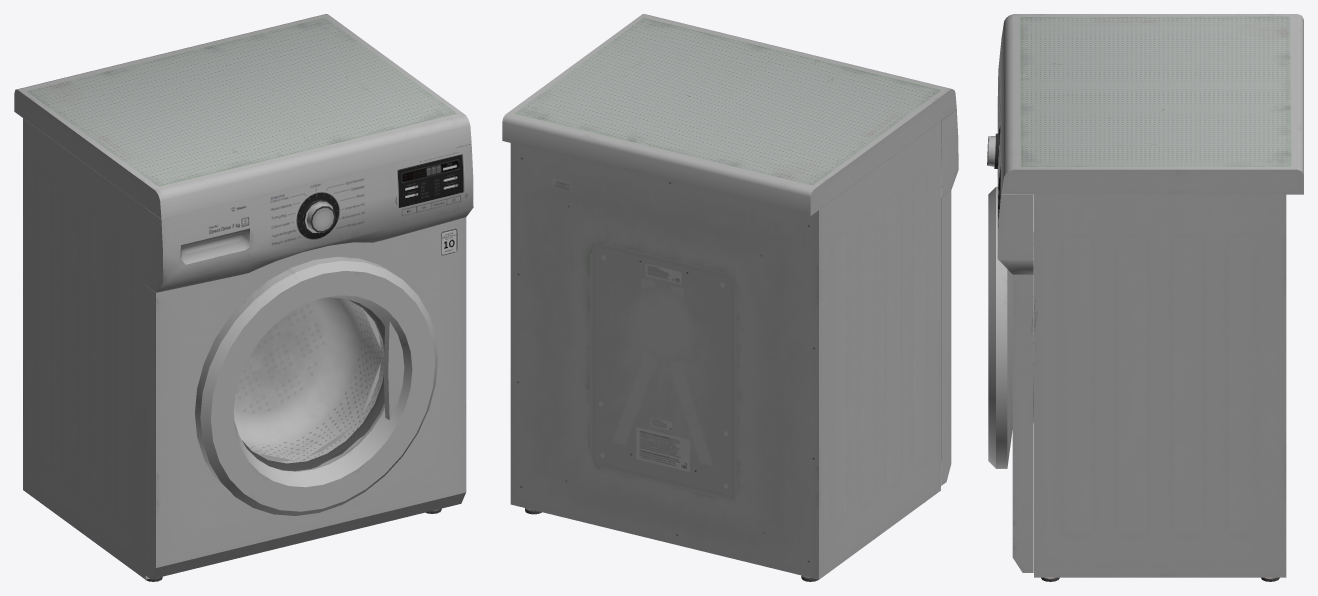
The model's file is game-ready_washing_machine.glb.
3 renders of one model, left to right at view 1: azimuth 30°, elevation 25°; view 2: azimuth 150°, elevation 25°; view 3: azimuth 270°, elevation 25°, orthographic. The views are drawn at different scales.
Visible parts, largest first — view 1: Cylinder.007, Cylinder.003; view 2: Cylinder.007; view 3: Cylinder.007.
Boxes of the visible parts, box(x1,y1,x2,y2) form: Cylinder.007: box(14, 14, 473, 581); Cylinder.003: box(234, 298, 384, 471); Cylinder.007: box(502, 14, 958, 581); Cylinder.007: box(987, 14, 1303, 581).
Size of the model in its own units: 0.8294 by 1.03 by 0.7128.
Materials: 2 (2 with a texture image).
